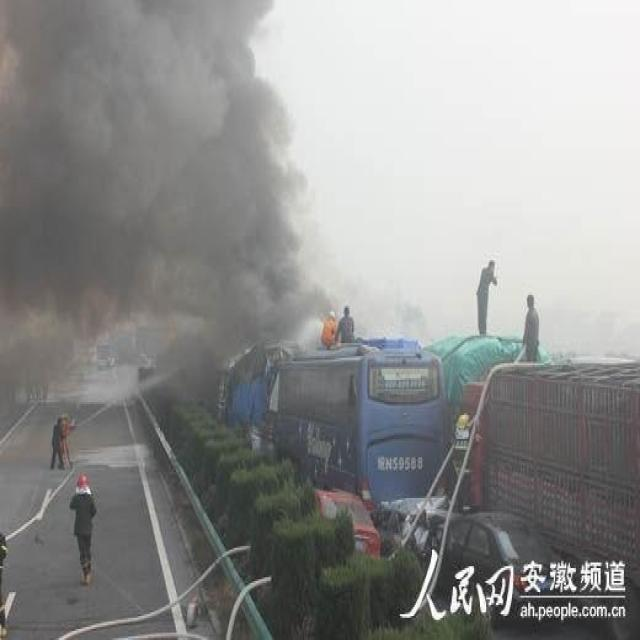Smoke: (1, 2, 341, 367)
